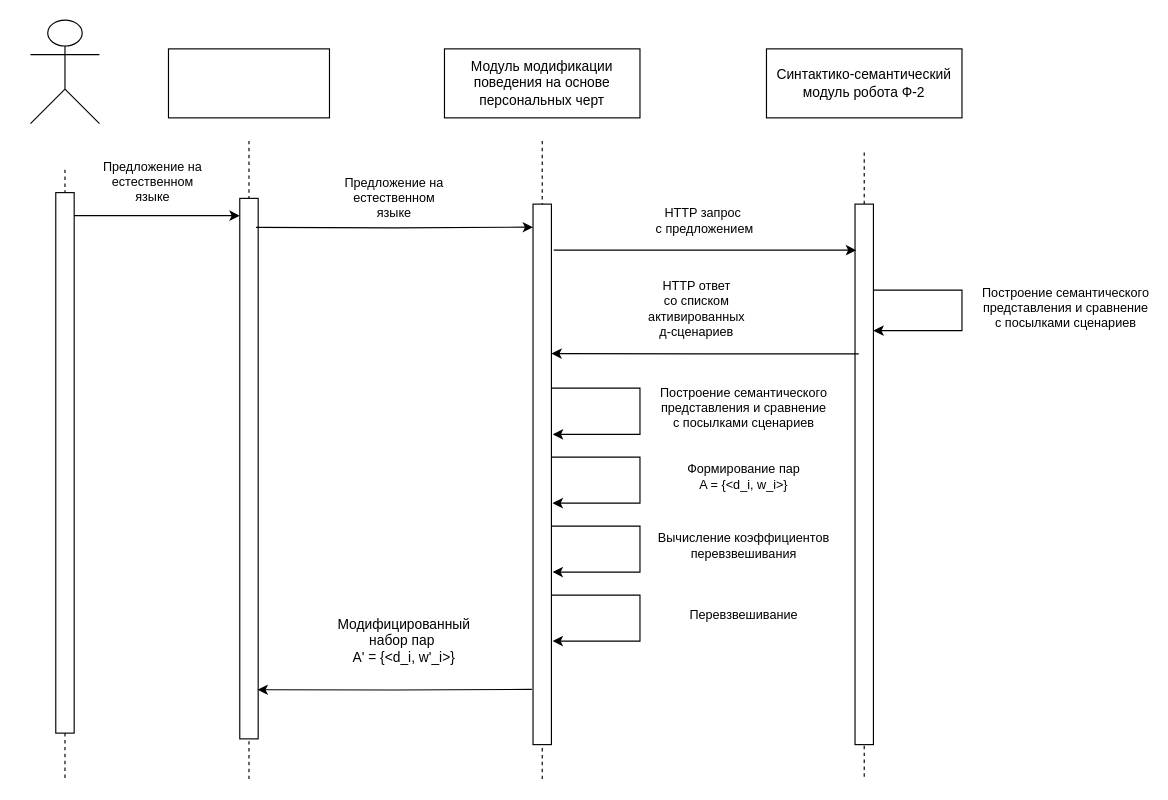
Image size: 1168x800. Some labels were removed from this diagram. Each missing label, with the centre of its shape:
Модуль графического интерфейса пользователя: [248,83]
Пользователь: [64,71]
